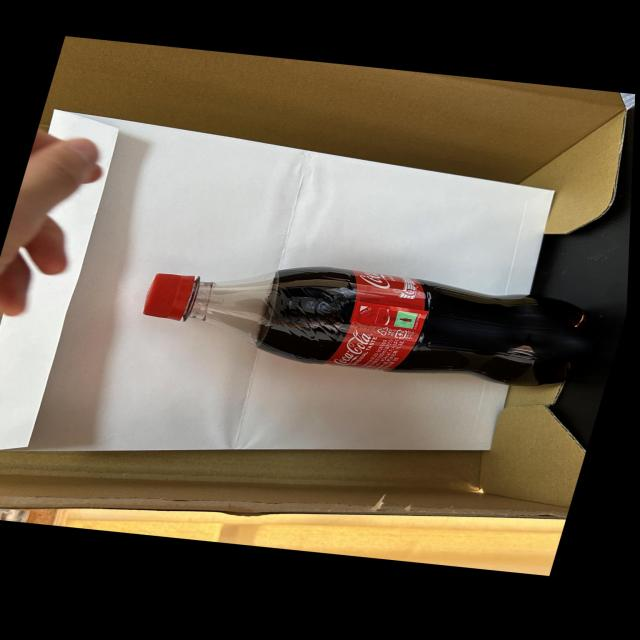high: (143, 267, 587, 386)
